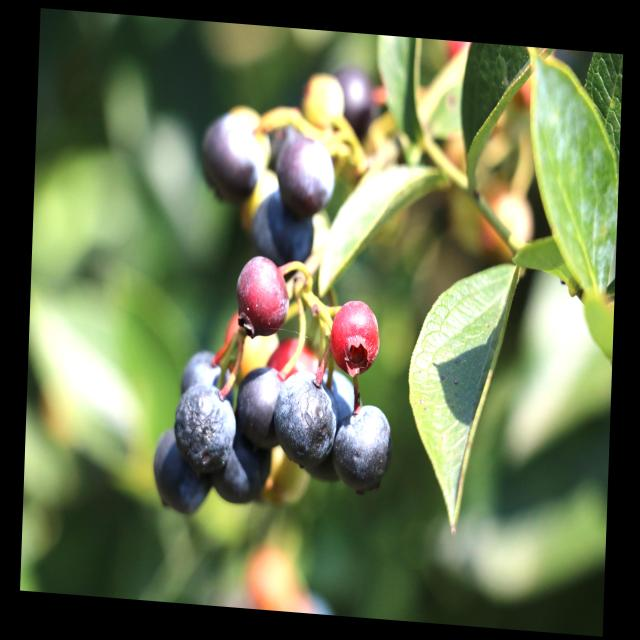blueberry: (304, 368, 356, 482), (178, 380, 238, 476), (274, 373, 336, 465), (154, 427, 214, 518), (252, 185, 318, 266), (202, 116, 259, 206), (212, 423, 272, 507), (277, 134, 338, 215), (238, 250, 290, 336), (336, 406, 391, 486), (236, 362, 285, 450), (178, 346, 226, 405), (336, 66, 375, 129)
blueberry-halfripe: (328, 296, 384, 378)
